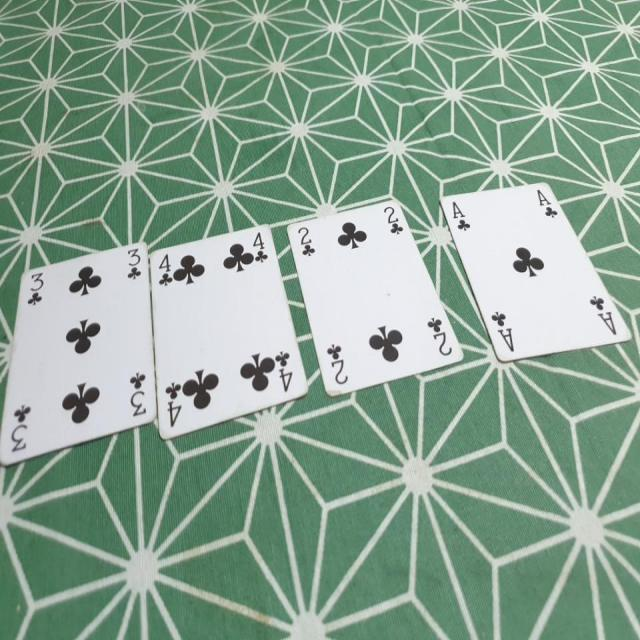2 Trefoils: (287, 198, 467, 399)
3 Trefoils: (1, 238, 157, 468)
4 Trefoils: (150, 222, 307, 442)
A Trefoils: (437, 178, 633, 365)
